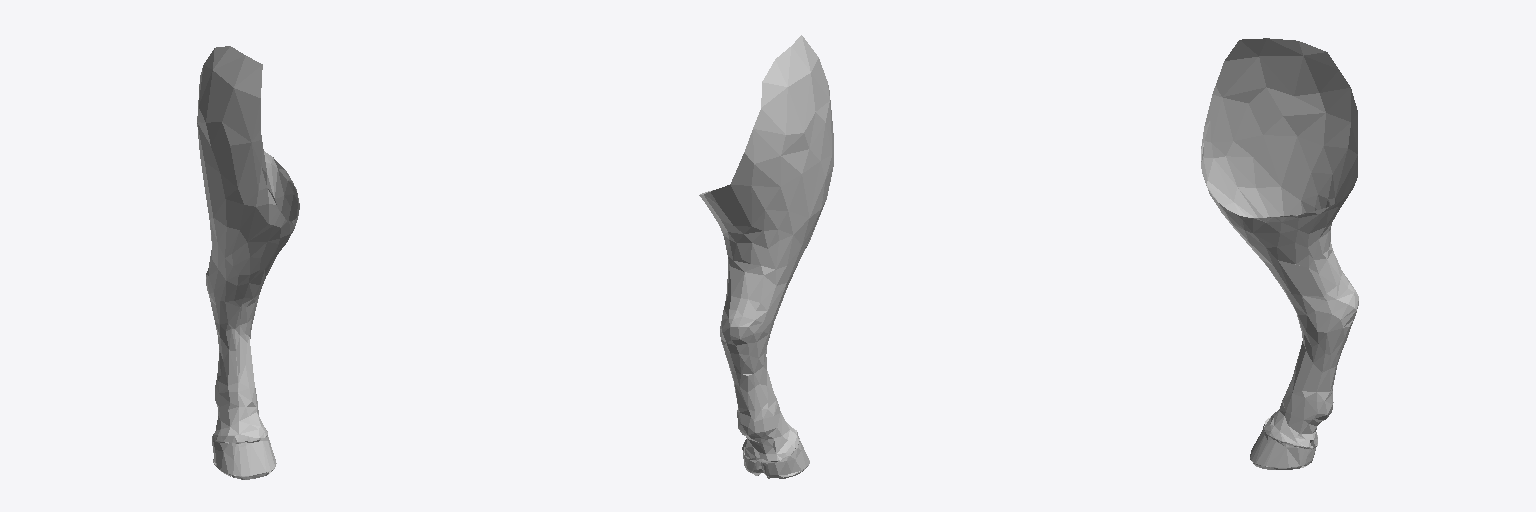
Rendered from RightHind leg.obj.
The picture shows the model from 3 angles: view 1: azimuth 30°, elevation 25°; view 2: azimuth 150°, elevation 25°; view 3: azimuth 270°, elevation 25°; orthographic projection.
Visible parts, largest first — view 1: RightHind_leg; view 2: RightHind_leg; view 3: RightHind_leg.
Part boxes in pixels (bbox=[...]): RightHind_leg: bbox=[197, 46, 299, 479]; RightHind_leg: bbox=[699, 35, 833, 478]; RightHind_leg: bbox=[1201, 38, 1358, 469].
Bounding box in the file's own units: 8.39 × 38.15 × 13.05.